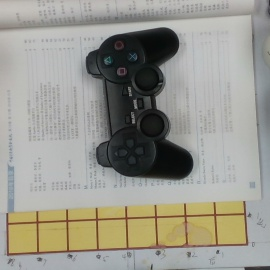remote: (87, 27, 194, 180)
